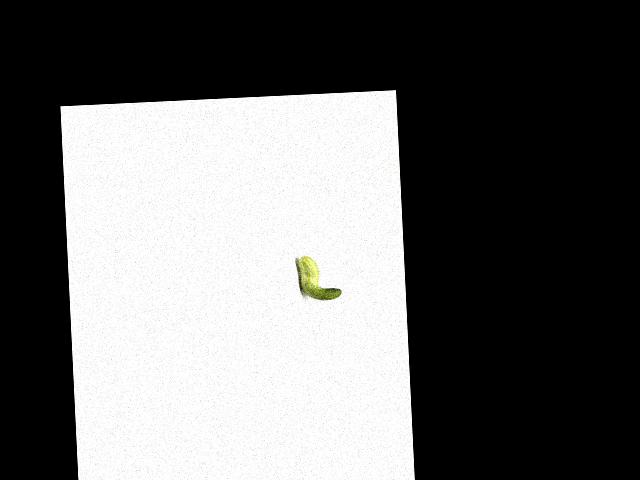cucumber: (297, 254, 341, 302)
